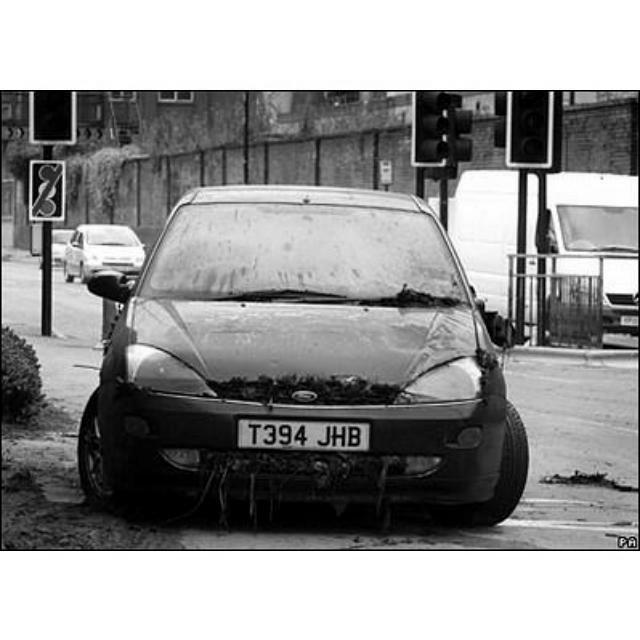bonnet-dent: (125, 287, 481, 384)
front-bumper-dent: (104, 391, 509, 508)
